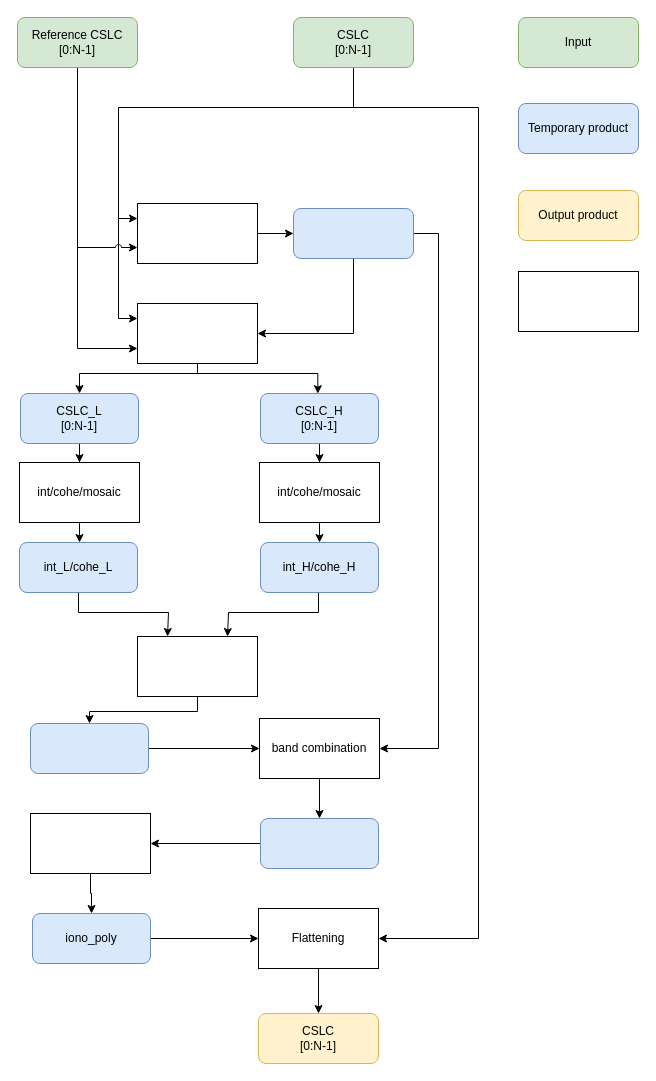
Some shapes in this 656 by 1081 pixel diagram are drawn without their labels. The centre of each missing label's shape, as x and y in pixels:
"ESD" belongs at (x=197, y=233).
"ESD_poly" belongs at (x=353, y=233).
"Processing block" belongs at (x=578, y=301).
"robust 2D fit at ionospheric height" belongs at (x=90, y=843).
"sparse phase_iono" belongs at (x=319, y=843).
"sparse unw_H/L" belongs at (x=89, y=748).
"Sub band extraction" belongs at (x=197, y=333).
"unwrap" belongs at (x=197, y=666).
